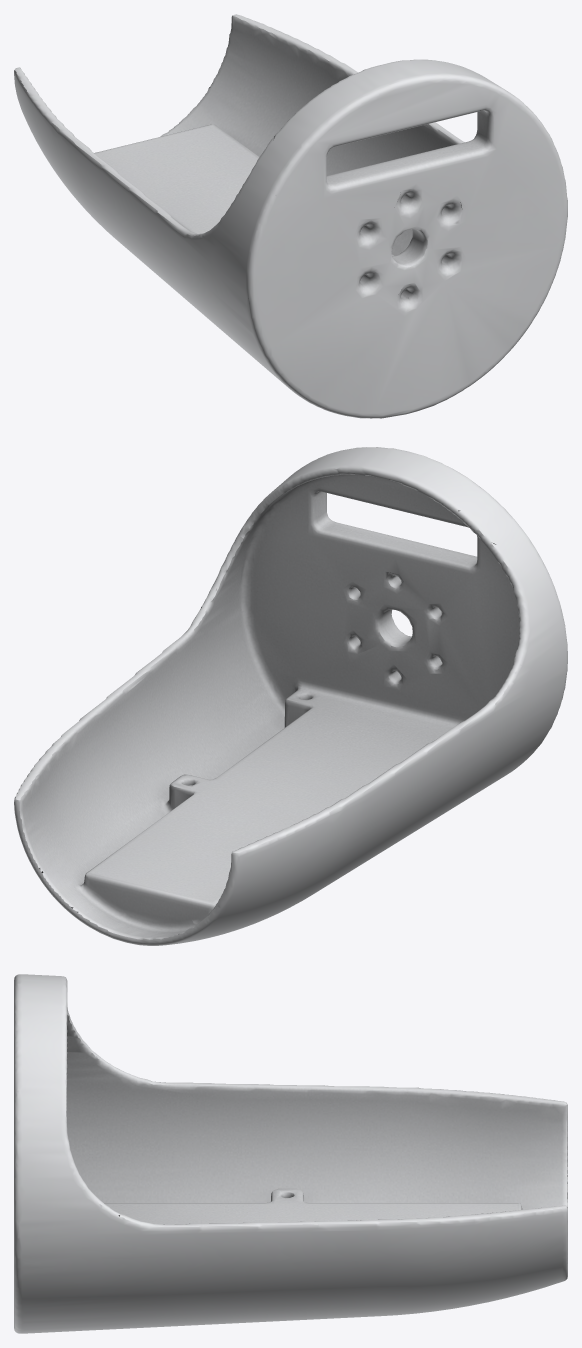
The model's file is Left_forarm_lower_1.obj.
3 renders of one model, top to bottom at view 1: azimuth 30°, elevation 25°; view 2: azimuth 150°, elevation 25°; view 3: azimuth 270°, elevation 25°, orthographic. The views are drawn at different scales.
Visible parts, largest first — view 1: Left_forarm_lower_1; view 2: Left_forarm_lower_1; view 3: Left_forarm_lower_1.
Boxes of the visible parts, x1=… form: Left_forarm_lower_1: x1=14, y1=14, x2=567, y2=418; Left_forarm_lower_1: x1=14, y1=447, x2=567, y2=945; Left_forarm_lower_1: x1=14, y1=974, x2=567, y2=1333.
Bounding box in the file's own units: 0.0729 × 0.0729 × 0.1123.
1 material, 1 textured.
